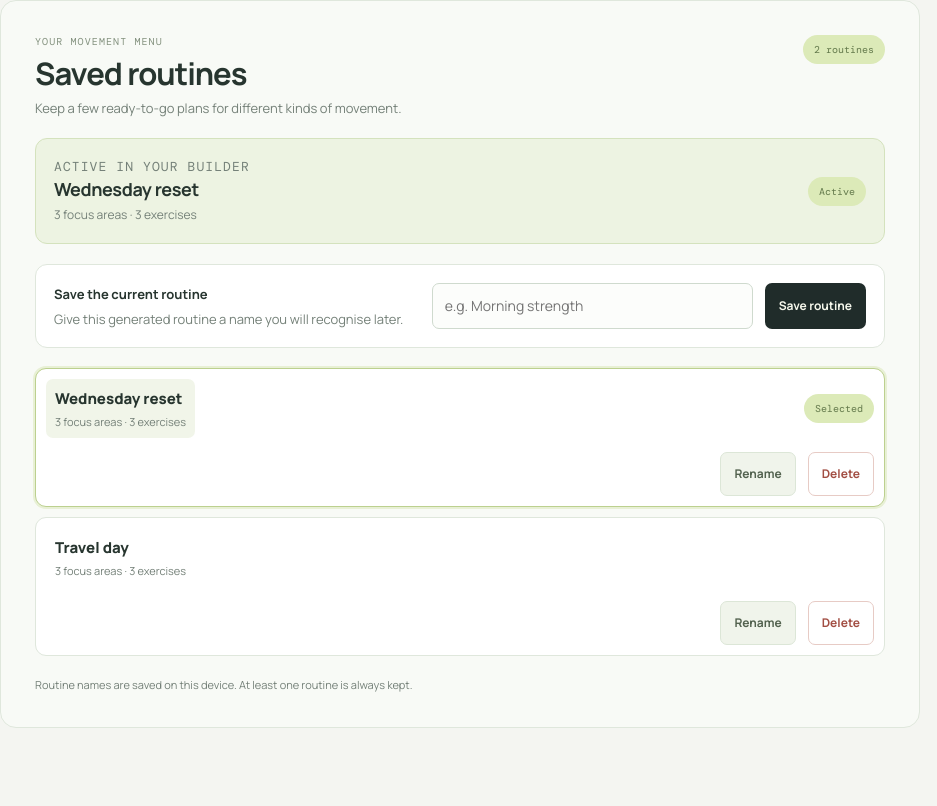
Test: RoutineManager › selects a saved routine and reflects it as the active routine
This screenshot has width=937, height=806.
Click the button with aria-label "Select Travel day": coordinates (120, 558) [46,528,195,587]
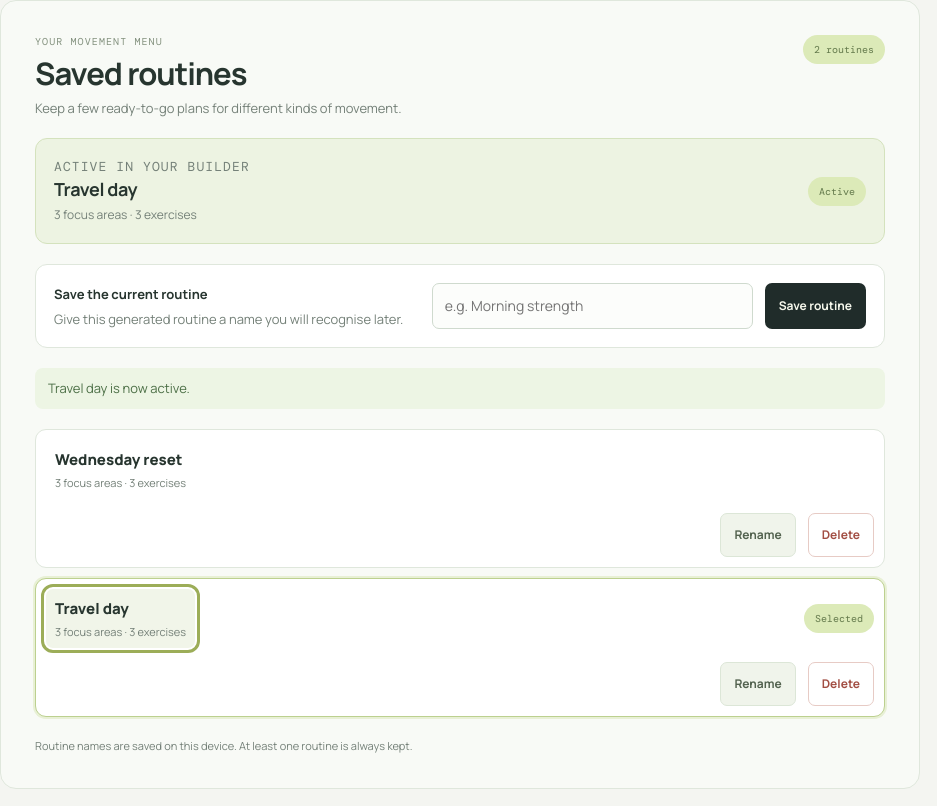
Expected: the text "Selected" is shown, [804,604,874,633]
Expected: the heading "Travel day" is shown, [54,177,137,201]
